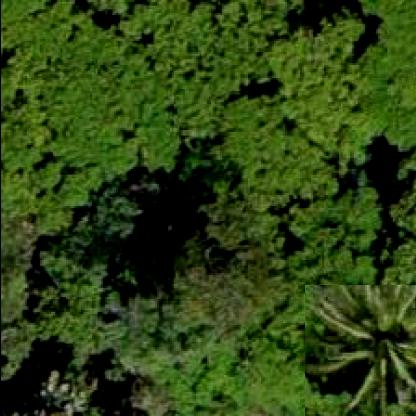coconut tree: (303, 284, 415, 416)
